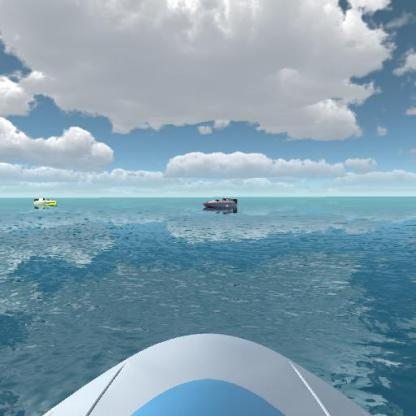usv2: (31, 195, 59, 210)
usv3: (202, 195, 241, 215)
